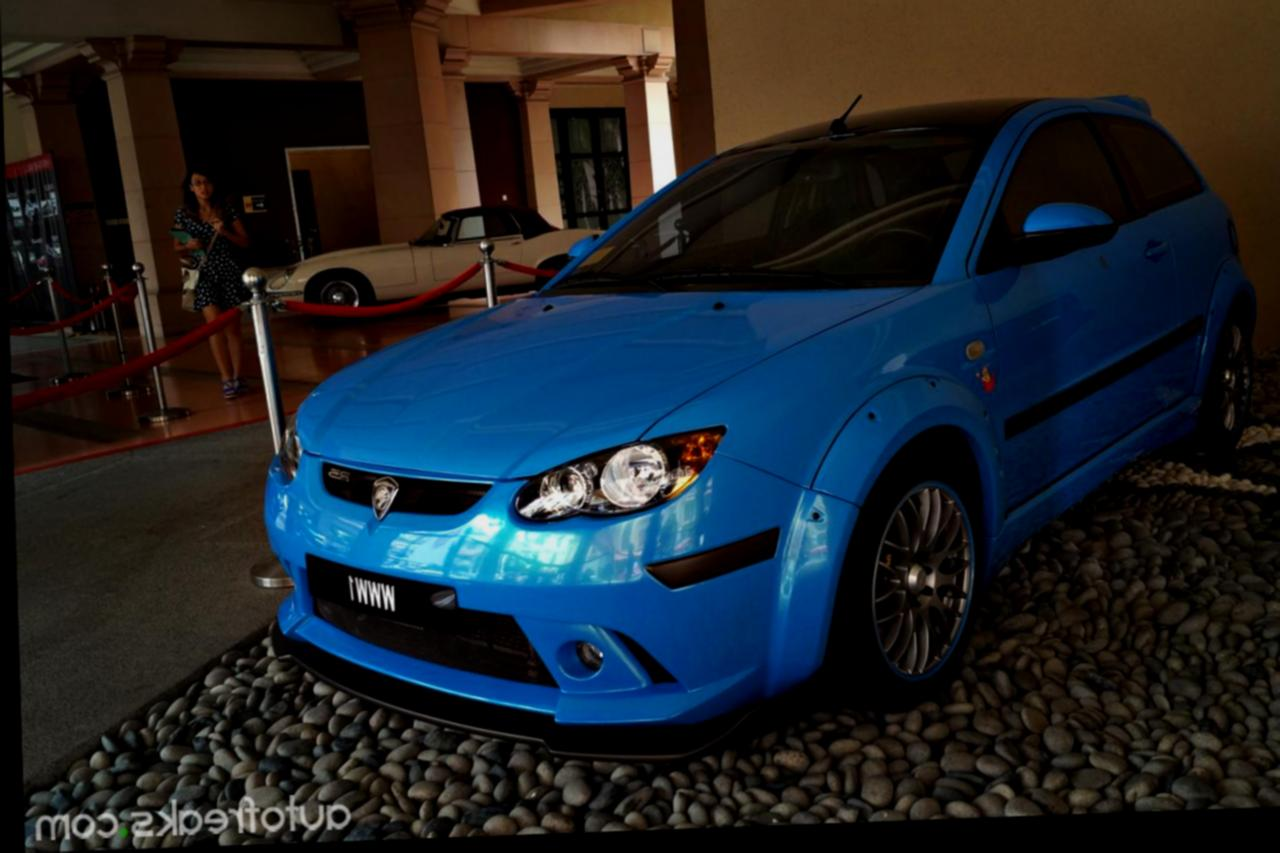License_Plate: (275, 549, 461, 647)
